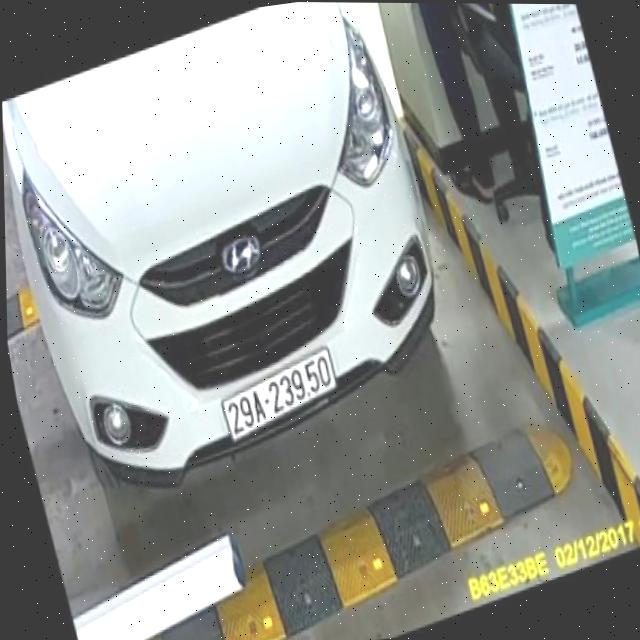car: (0, 0, 475, 513)
plate: (213, 341, 349, 447)
